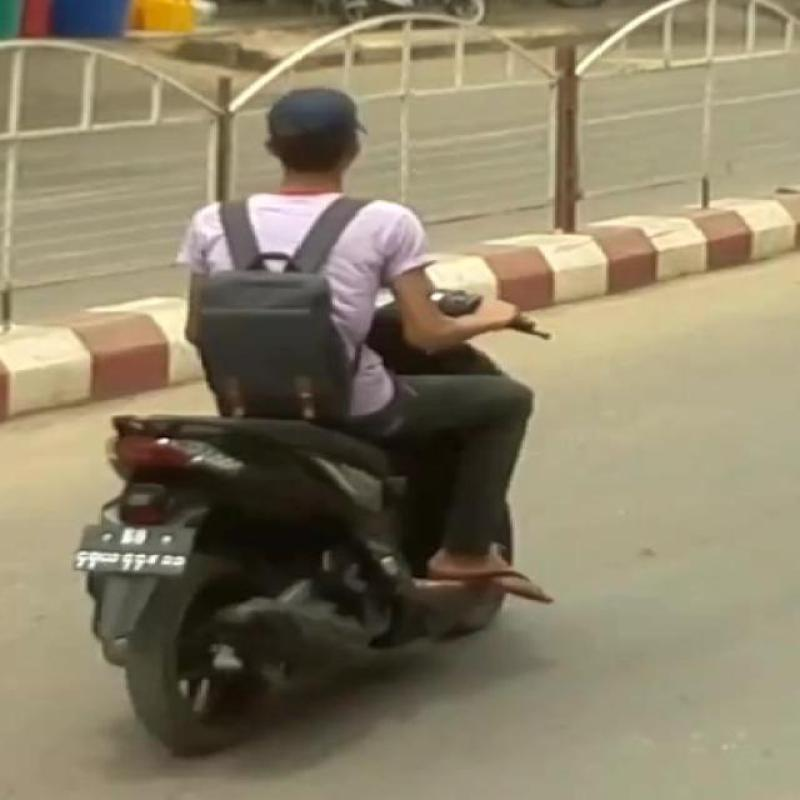nohelmet: (239, 80, 416, 187)
